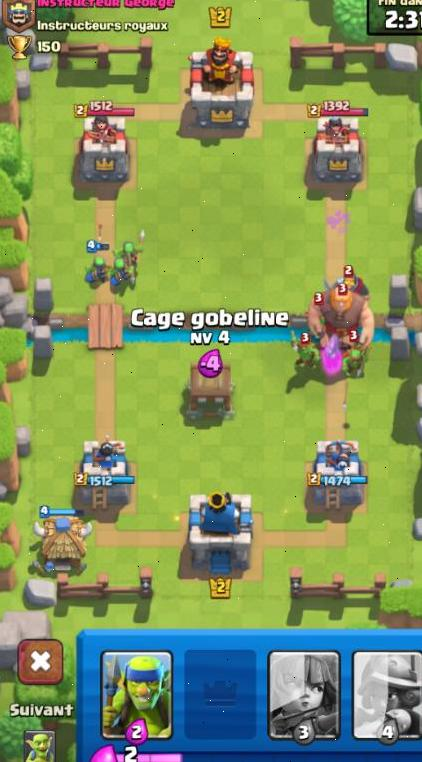enemy_giant: (305, 279, 375, 355)
enemy_knight: (319, 266, 374, 300)
enemy_spear_goblins: (290, 332, 324, 373), (340, 335, 370, 376)
player_goblin_hut: (28, 505, 95, 580)
player_spear_goblins: (81, 240, 111, 284), (117, 229, 147, 266), (108, 258, 137, 291)
